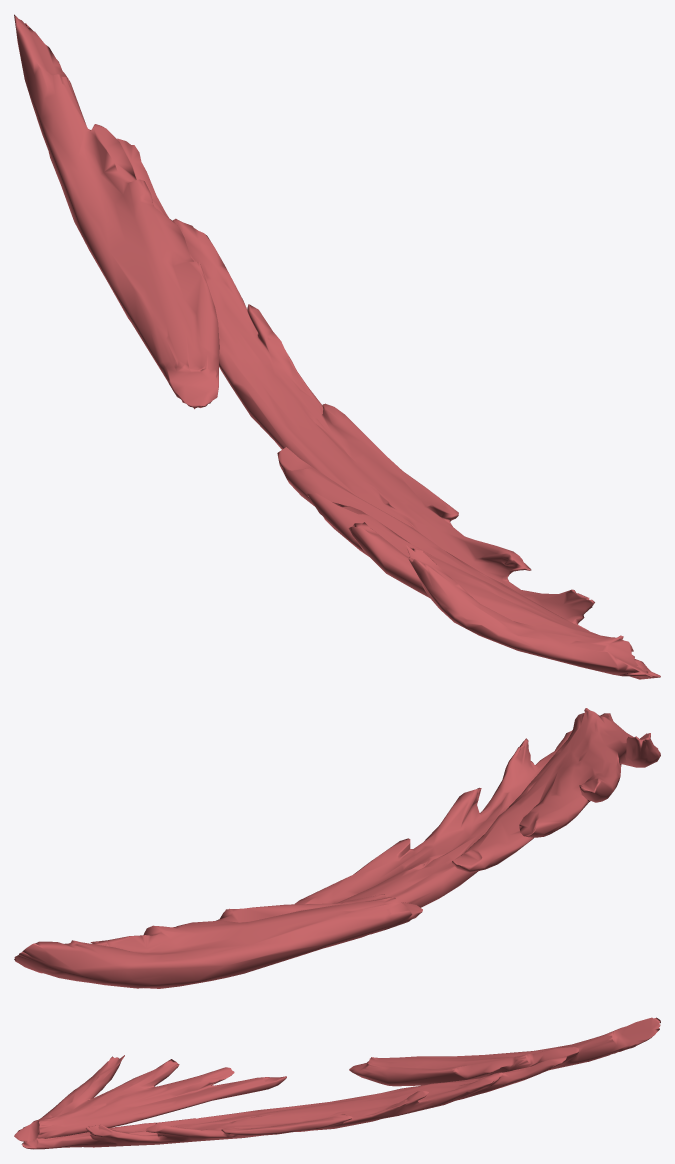
3 views of the same model, one above another, from view 1: azimuth 30°, elevation 25°; view 2: azimuth 150°, elevation 25°; view 3: azimuth 270°, elevation 25° (orthographic). The views are drawn at different scales.
Parts seen in each view (by area): view 1: 右侧颈长肌; view 2: 右侧颈长肌; view 3: 右侧颈长肌.
Part boxes in pixels (<box>): 右侧颈长肌: <box>14,14,660,679</box>; 右侧颈长肌: <box>14,708,660,988</box>; 右侧颈长肌: <box>14,1017,660,1149</box>.
Size of the model in its own units: 0.0365 by 0.0503 by 0.2319.
